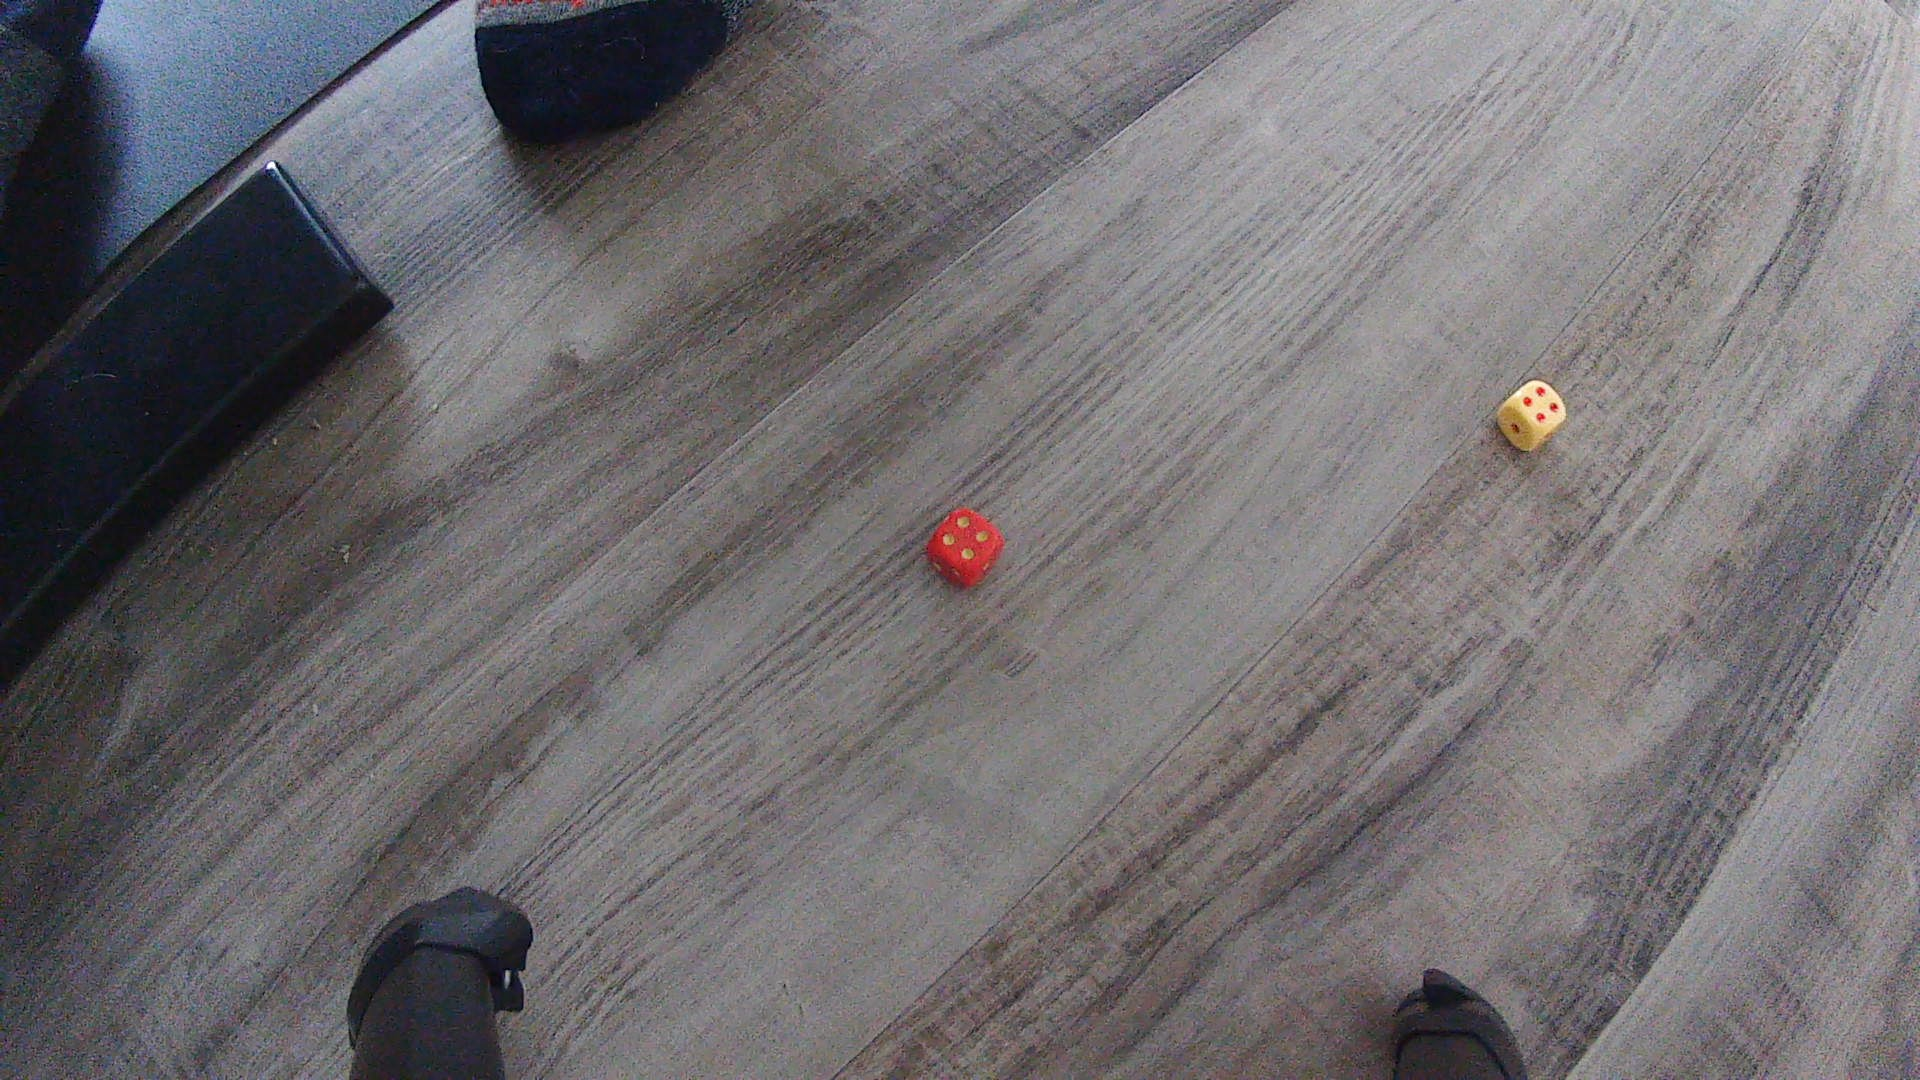die: (924, 506, 1006, 589), (1497, 378, 1569, 452)
